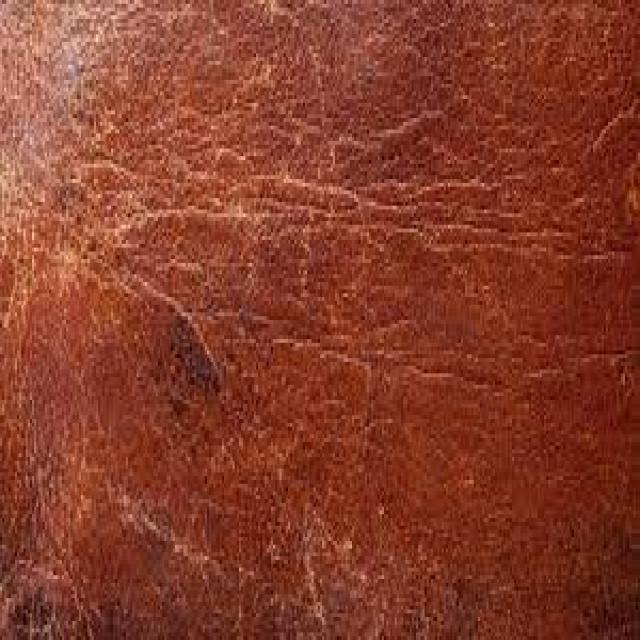Bacterial Injury: (146, 308, 259, 439)
Rotten surface: (146, 151, 495, 281), (6, 16, 139, 301)
